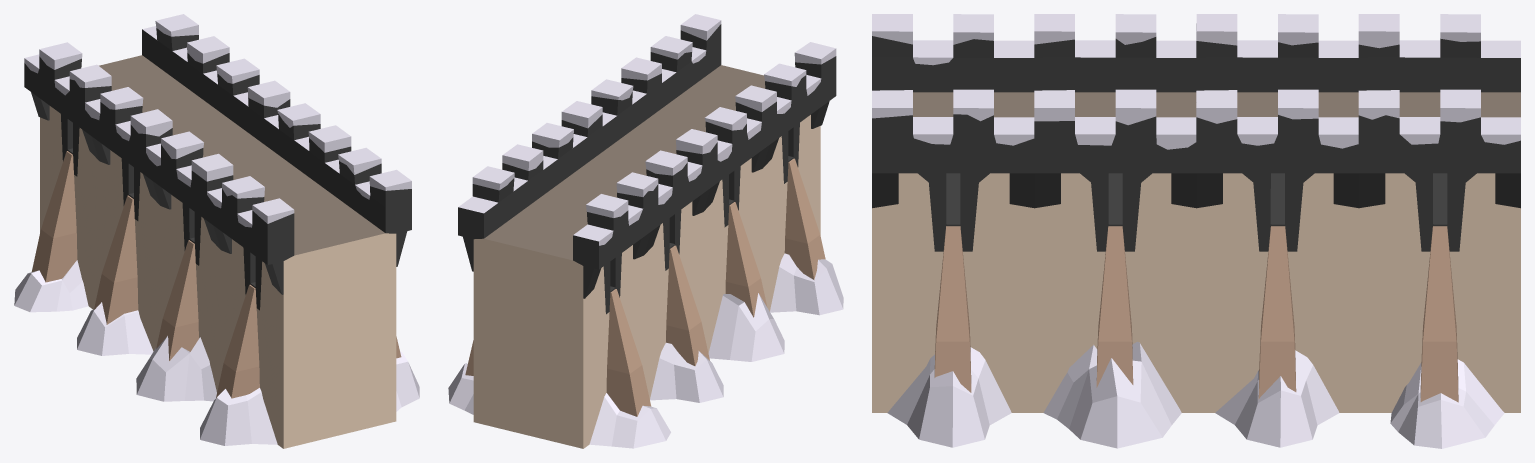
The model's file is wall-3.glb.
3 renders of one model, left to right at view 1: azimuth 30°, elevation 25°; view 2: azimuth 150°, elevation 25°; view 3: azimuth 270°, elevation 25°, orthographic. The views are drawn at different scales.
Parts seen in each view (by area): view 1: Wall3, Wall1.002; view 2: Wall3, Wall1.002; view 3: Wall3, Wall1.002.
Part boxes in pixels (x1,y1,x2,y2): Wall3: [24, 14, 411, 448]; Wall1.002: [14, 260, 419, 445]; Wall3: [458, 14, 836, 448]; Wall1.002: [448, 253, 843, 448]; Wall3: [872, 14, 1520, 412]; Wall1.002: [887, 341, 1504, 448].
Size of what is drawn, in the model's own units: 4.24 by 4.29 by 8.
Materials: 1 (1 with a texture image).
